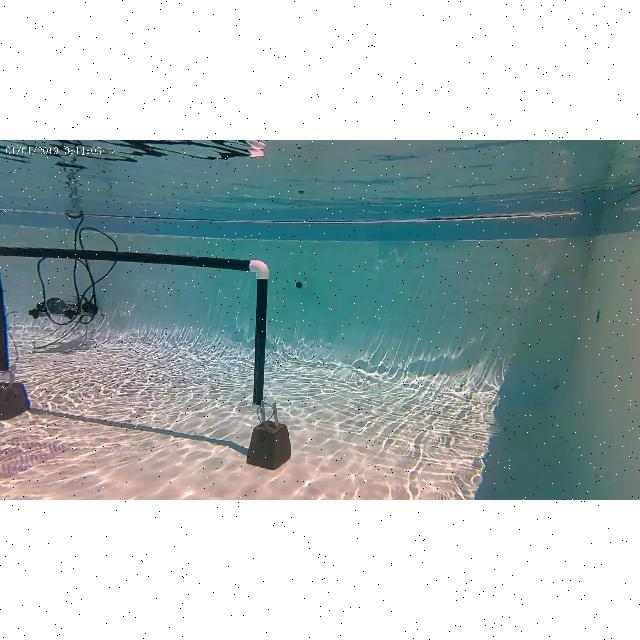prequal gate: (0, 246, 268, 412)
prequal gate leg l: (0, 272, 20, 384)
prequal gate leg r: (242, 254, 272, 418)
